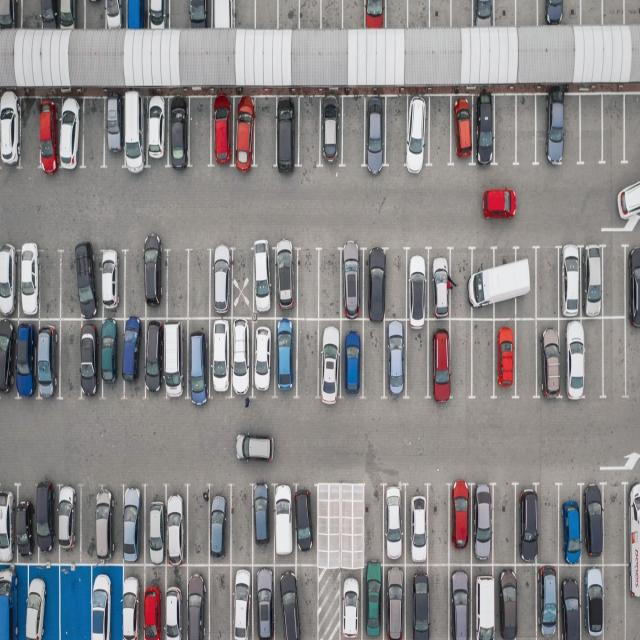space-empty: (58, 562, 93, 638), (330, 488, 357, 572), (206, 563, 235, 639), (291, 564, 319, 638), (293, 320, 319, 397), (423, 564, 450, 638), (448, 319, 473, 398), (404, 322, 430, 397), (492, 487, 517, 565), (231, 488, 256, 566), (471, 319, 496, 396), (603, 319, 628, 396), (513, 320, 538, 397), (426, 486, 450, 566), (254, 94, 280, 167), (59, 319, 83, 398), (361, 320, 386, 395), (361, 488, 384, 569), (188, 97, 214, 168), (228, 247, 253, 320), (185, 488, 209, 564), (604, 562, 628, 638), (534, 250, 560, 320), (293, 251, 319, 320), (515, 565, 539, 639), (538, 489, 561, 566), (297, 98, 323, 166), (316, 250, 341, 320), (83, 98, 108, 168), (583, 318, 605, 397), (604, 244, 628, 316), (61, 249, 86, 318), (602, 486, 624, 564), (383, 97, 407, 168), (20, 98, 43, 172), (166, 250, 191, 318), (492, 94, 516, 164), (342, 96, 366, 166), (381, 250, 405, 320), (449, 250, 473, 320), (603, 95, 627, 165), (427, 97, 451, 166), (38, 250, 61, 321), (186, 250, 210, 318), (515, 94, 538, 164), (124, 250, 148, 317), (580, 96, 603, 165), (81, 488, 101, 564), (318, 490, 337, 567), (625, 320, 640, 396), (625, 96, 640, 164), (254, 0, 278, 30), (341, 0, 365, 29), (407, 0, 431, 29), (321, 0, 344, 30), (86, 0, 108, 31), (168, 0, 191, 29), (384, 0, 407, 29), (298, 0, 321, 29), (277, 0, 299, 30), (451, 0, 474, 28), (21, 0, 43, 29), (234, 0, 256, 29), (515, 0, 538, 27), (430, 0, 452, 28), (492, 0, 514, 27), (601, 0, 624, 25), (581, 0, 603, 25), (624, 0, 640, 24)
space-occupied: (16, 563, 56, 640), (86, 562, 120, 638), (561, 317, 591, 398), (540, 94, 570, 166), (186, 319, 213, 399), (380, 483, 406, 564), (471, 563, 499, 638), (230, 565, 258, 640), (446, 483, 472, 563), (206, 319, 232, 399), (34, 317, 60, 397), (161, 318, 187, 398), (182, 564, 210, 638), (122, 318, 148, 397), (252, 319, 278, 398), (405, 484, 431, 563), (71, 247, 99, 320), (272, 318, 298, 396), (538, 320, 564, 398), (339, 318, 365, 396), (227, 319, 252, 399), (56, 484, 82, 560), (471, 483, 496, 562), (160, 567, 187, 640), (140, 564, 166, 639), (448, 564, 474, 639), (120, 565, 146, 640), (404, 98, 431, 170), (491, 246, 518, 318), (382, 321, 407, 398), (492, 319, 518, 393), (122, 96, 148, 170), (317, 316, 341, 396), (122, 484, 146, 564), (100, 250, 128, 318), (208, 96, 234, 169), (143, 96, 169, 169), (12, 319, 36, 398), (208, 248, 235, 318), (254, 243, 279, 317), (208, 486, 232, 563), (164, 487, 188, 564), (272, 246, 298, 317), (560, 490, 585, 563), (428, 322, 452, 398), (558, 562, 582, 638), (94, 487, 118, 563), (232, 98, 258, 168), (558, 248, 584, 318), (340, 570, 366, 640), (472, 247, 498, 317), (100, 316, 123, 395), (380, 563, 404, 638), (253, 565, 277, 640), (274, 563, 298, 638), (253, 485, 276, 563), (534, 566, 558, 640), (405, 564, 429, 638), (15, 247, 39, 320), (274, 97, 299, 167), (319, 97, 344, 167), (59, 98, 84, 168), (292, 490, 315, 566), (578, 562, 601, 638), (168, 98, 192, 170), (359, 568, 383, 640), (273, 486, 296, 561), (362, 250, 387, 319), (515, 489, 538, 564), (143, 486, 165, 564), (82, 319, 104, 397), (144, 319, 166, 397), (364, 97, 388, 168), (512, 247, 536, 318), (38, 97, 61, 171), (450, 96, 475, 164), (406, 251, 431, 319), (494, 567, 517, 640), (340, 250, 365, 317), (0, 564, 22, 640), (16, 485, 38, 560), (579, 246, 602, 317), (144, 249, 168, 317), (429, 250, 453, 318), (35, 485, 57, 559), (474, 95, 497, 165), (104, 98, 127, 168), (581, 490, 602, 566), (0, 96, 21, 168), (83, 247, 103, 317), (0, 244, 19, 317), (0, 490, 17, 566), (625, 481, 640, 563), (0, 318, 15, 396), (625, 560, 640, 636), (540, 0, 580, 25), (627, 244, 640, 318), (56, 1, 83, 32), (146, 0, 171, 29), (125, 0, 148, 31), (188, 0, 212, 29), (209, 0, 233, 28), (362, 0, 385, 29), (0, 0, 21, 31), (473, 0, 497, 27), (105, 0, 126, 30), (39, 0, 58, 30)
